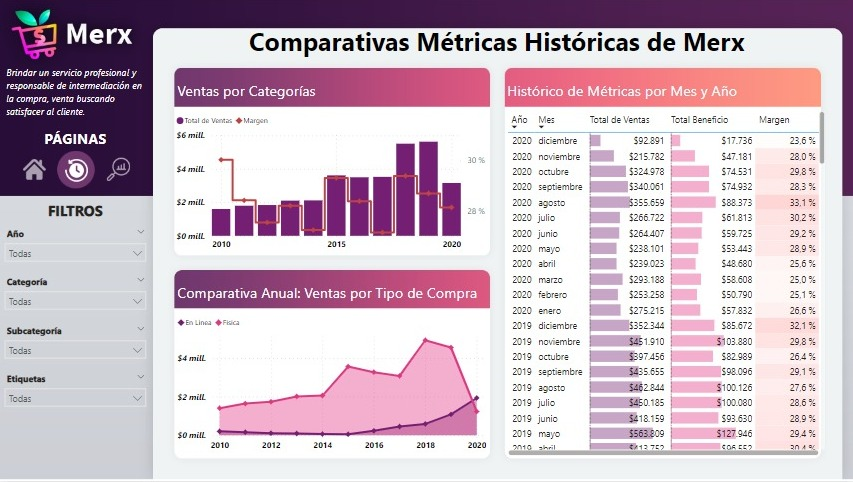

Layout of this report page (visuals, bound fields, positions):
{"tool":"powerbi","page":{"name":"2","canvas":[1280,720],"ordinal":1},"visuals":[{"type":"slicer","fields":{"Values":["Transacciones.Fecha.Variación.Jerarquía de fechas.Año"]},"box":[0,335.4,230.8,72.3],"z":0},{"type":"slicer","fields":{"Values":["Transacciones.Categoría"]},"box":[0,407.7,230.8,72.3],"z":1000},{"type":"slicer","fields":{"Values":["Transacciones.Subcategoría"]},"box":[0,480,230.8,72.3],"z":2000},{"type":"slicer","fields":{"Values":["Transacciones.Etiquetas"]},"box":[0,552.3,230.8,72.3],"z":3000},{"type":"textbox","box":[7.4,95.6,214.8,92.7],"z":5000},{"type":"textbox","box":[229.2,32.3,1029.2,87.7],"z":6000},{"type":"textbox","box":[0,187.7,230.8,40],"z":7000},{"type":"textbox","box":[0,295.4,230.8,40],"z":8000},{"type":"textbox","box":[263.1,116.9,471.3,51.2],"z":9000},{"type":"actionButton","box":[34.1,239.9,39,35.3],"z":10000},{"type":"actionButton","box":[98.6,243.6,37.8,29.2],"z":11000},{"type":"actionButton","box":[163.2,237.5,37.8,35.3],"z":12000},{"type":"lineStackedColumnComboChart","fields":{"Category":["Transacciones.Fecha.Variación.Jerarquía de fechas.Año","Transacciones.Fecha.Variación.Jerarquía de fechas.Trimestre","Transacciones.Fecha.Variación.Jerarquía de fechas.Mes","Transacciones.Fecha.Variación.Jerarquía de fechas.Día"],"Y2":["Transacciones.Margen"],"Y":["Transacciones.Total de Ventas"]},"box":[261.8,162,472.5,220.4],"z":13000},{"type":"areaChart","fields":{"Category":["Transacciones.Fecha.Variación.Jerarquía de fechas.Año","Transacciones.Fecha.Variación.Jerarquía de fechas.Trimestre","Transacciones.Fecha.Variación.Jerarquía de fechas.Mes","Transacciones.Fecha.Variación.Jerarquía de fechas.Día"],"Y":["Transacciones.Total de Ventas"],"Series":["Transacciones.Tipo de Compra"]},"box":[263.4,463.4,470.8,219.2],"z":14000},{"type":"textbox","box":[263.1,417.7,471.3,51.2],"z":15000},{"type":"tableEx","fields":{"Values":["Transacciones.Fecha.Variación.Jerarquía de fechas.Año","Transacciones.Fecha.Variación.Jerarquía de fechas.Mes","Transacciones.Total de Ventas","Transacciones.Total Beneficio","Transacciones.Margen"]},"box":[755.1,162,483.5,523.7],"z":16000},{"type":"textbox","box":[755.1,116.9,471.3,51.2],"z":17000}]}

Visuals, with their boxes on the page's 1280x720 design canvas (x1, y1, x2, y2). These are canvas units, not pixel positions in the 853x482 screenshot, which may show the page scaled, cropped or inside an application window:
slicer - Transacciones.Fecha.Variación.Jerarquía de fechas.Año: {"x1": 0, "y1": 335, "x2": 231, "y2": 408}
slicer - Transacciones.Categoría: {"x1": 0, "y1": 408, "x2": 231, "y2": 480}
slicer - Transacciones.Subcategoría: {"x1": 0, "y1": 480, "x2": 231, "y2": 552}
slicer - Transacciones.Etiquetas: {"x1": 0, "y1": 552, "x2": 231, "y2": 625}
textbox: {"x1": 7, "y1": 96, "x2": 222, "y2": 188}
textbox: {"x1": 229, "y1": 32, "x2": 1258, "y2": 120}
textbox: {"x1": 0, "y1": 188, "x2": 231, "y2": 228}
textbox: {"x1": 0, "y1": 295, "x2": 231, "y2": 335}
textbox: {"x1": 263, "y1": 117, "x2": 734, "y2": 168}
actionButton: {"x1": 34, "y1": 240, "x2": 73, "y2": 275}
actionButton: {"x1": 99, "y1": 244, "x2": 136, "y2": 273}
actionButton: {"x1": 163, "y1": 238, "x2": 201, "y2": 273}
lineStackedColumnComboChart - Transacciones.Fecha.Variación.Jerarquía de fechas.Año x Transacciones.Fecha.Variación.Jerarquía de fechas.Trimestre: {"x1": 262, "y1": 162, "x2": 734, "y2": 382}
areaChart - Transacciones.Fecha.Variación.Jerarquía de fechas.Año x Transacciones.Fecha.Variación.Jerarquía de fechas.Trimestre: {"x1": 263, "y1": 463, "x2": 734, "y2": 683}
textbox: {"x1": 263, "y1": 418, "x2": 734, "y2": 469}
tableEx - Transacciones.Fecha.Variación.Jerarquía de fechas.Año x Transacciones.Fecha.Variación.Jerarquía de fechas.Mes: {"x1": 755, "y1": 162, "x2": 1239, "y2": 686}
textbox: {"x1": 755, "y1": 117, "x2": 1226, "y2": 168}
